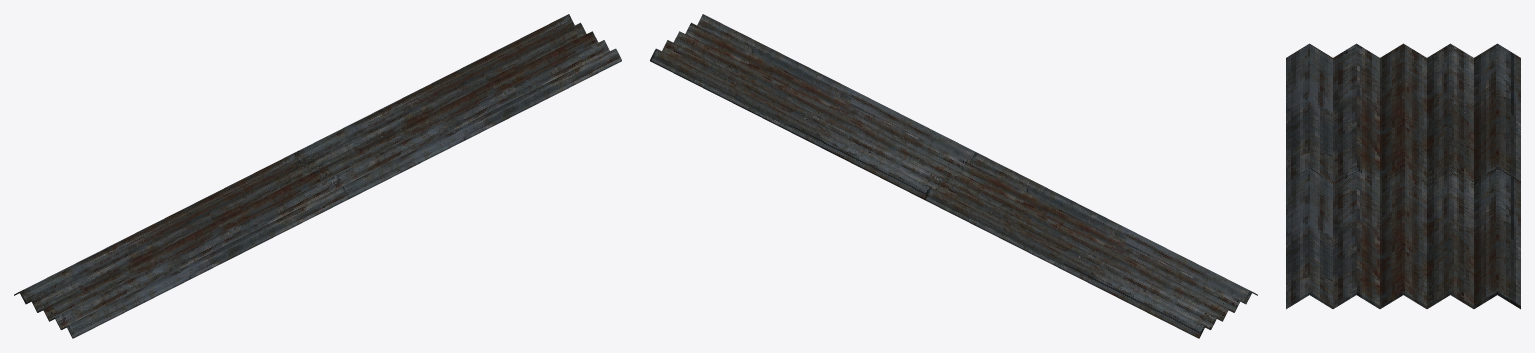
File: roof_hr_3_side_2_angle_edge_2.glb
3 views of the same model, side by side, from view 1: azimuth 30°, elevation 25°; view 2: azimuth 150°, elevation 25°; view 3: azimuth 270°, elevation 25° (orthographic). The views are drawn at different scales.
Parts seen in each view (by area): view 1: roof_hr_3_side_2_angle_edge_2; view 2: roof_hr_3_side_2_angle_edge_2; view 3: roof_hr_3_side_2_angle_edge_2.
Boxes of the visible parts, bbox=[...] form: roof_hr_3_side_2_angle_edge_2: bbox=[14, 14, 621, 338]; roof_hr_3_side_2_angle_edge_2: bbox=[650, 14, 1257, 338]; roof_hr_3_side_2_angle_edge_2: bbox=[1286, 43, 1520, 309].
Size of the model in its own units: 4 by 1.06 by 0.7407.
Materials: 1 (1 with a texture image).
